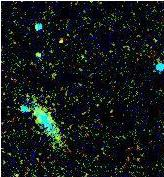star: (47, 28, 77, 58)
